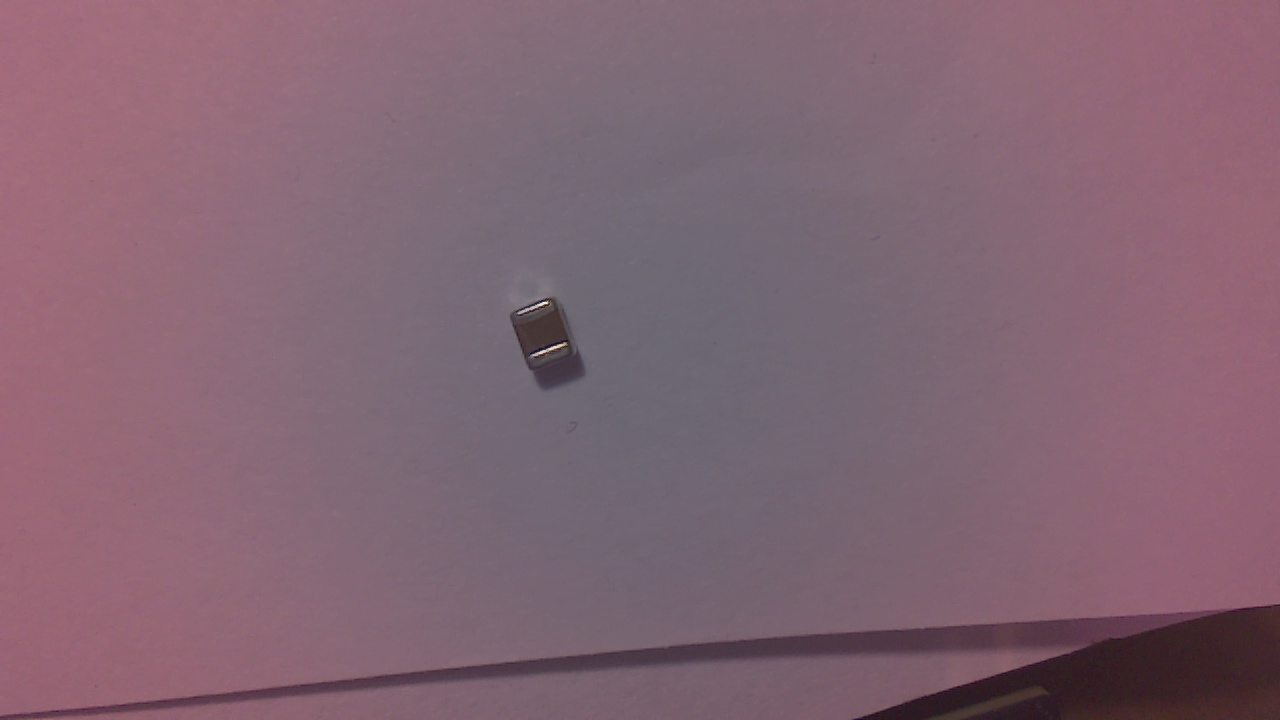Condensator: (514, 300, 586, 374)
